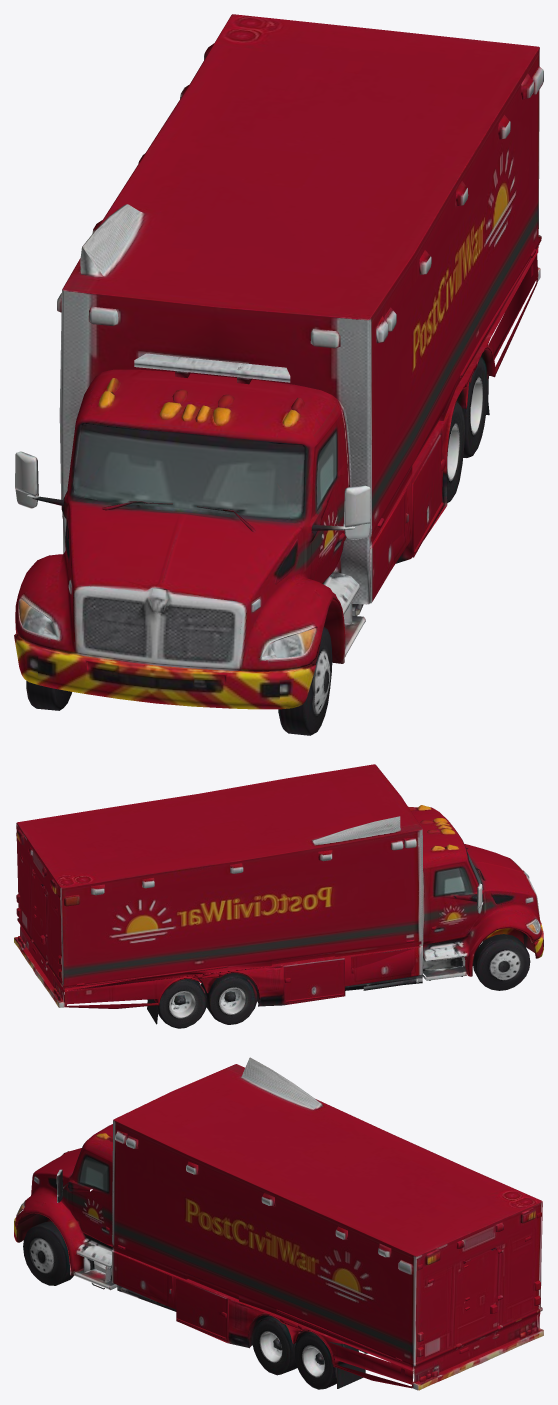
Rendered from vehicle-box-truck.1024.glb.
3 views of the same model, one above another, from view 1: azimuth 30°, elevation 25°; view 2: azimuth 150°, elevation 25°; view 3: azimuth 270°, elevation 25° (orthographic). The views are drawn at different scales.
Parts seen in each view (by area): view 1: tripo_75e65aa4_4164_4527_912d_afb48eb47a16; view 2: tripo_75e65aa4_4164_4527_912d_afb48eb47a16; view 3: tripo_75e65aa4_4164_4527_912d_afb48eb47a16.
Boxes of the visible parts, left/top/right/bottom form: tripo_75e65aa4_4164_4527_912d_afb48eb47a16: left=14, top=14, right=543, bottom=735; tripo_75e65aa4_4164_4527_912d_afb48eb47a16: left=14, top=764, right=543, bottom=1028; tripo_75e65aa4_4164_4527_912d_afb48eb47a16: left=14, top=1057, right=543, bottom=1390.
Size of the model in its own units: 0.9663 by 0.4399 by 0.9995.
1 material, 1 textured.
